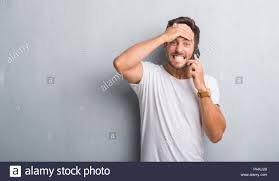phone: (190, 48, 201, 69)
talk: (167, 38, 204, 85)
